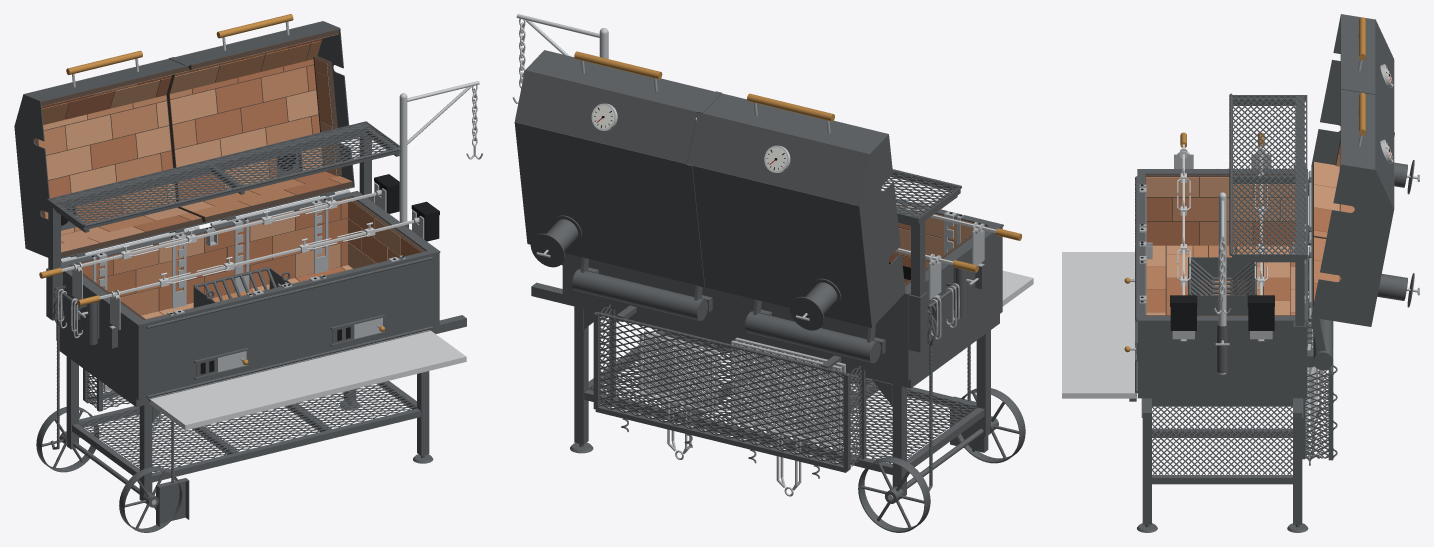
File: paulo-xl-double-rotisserie-raw.glb
3 views of the same model, side by side, from view 1: azimuth 30°, elevation 25°; view 2: azimuth 150°, elevation 25°; view 3: azimuth 270°, elevation 25° (orthographic). The views are drawn at different scales.
Visible parts, largest first — view 1: Braai box (fully brick-lined):frame, Cart frame:frame, Upper shelf (lifts off):frame, Fold-up stainless table:stainless, Oven lid, right half:brick0, Oven lid, left half:brick2, Braai box (fully brick-lined):brick1, Oven lid, left half:frame, Oven lid, right half:brick1, Oven lid, right half:brick2, Oven lid, left half:brick0, Braai box (fully brick-lined):brick0 (+24 smaller); view 2: Oven lid, left half:frame, Oven lid, right half:frame, Cart frame:frame, Grid & accessory storage cage (back):frame, Braai box (fully brick-lined):frame, Large zinc-plated grid:zinc, Small zinc-plated grid:zinc, Upper shelf (lifts off):frame, Braai box (fully brick-lined):brick2, Potjie boom pole:galv, Rebar poker (moves the firebox):frame, Ash shovel:frame (+3 smaller); view 3: Braai box (fully brick-lined):frame, Oven lid, right half:frame, Cart frame:frame, Upper shelf (lifts off):frame, Fold-up stainless table:stainless, Oven lid, left half:frame, Braai box (fully brick-lined):brick2, Braai box (fully brick-lined):brick1, Mobile firebox (sled fire basket):frame, Braai box (fully brick-lined):brick0, Grid & accessory storage cage (back):frame, Potjie boom pole:galv (+10 smaller).
Part boxes in pixels (x1,y1,x2,y2): Braai box (fully brick-lined):frame: (46, 191, 440, 400); Cart frame:frame: (36, 285, 466, 532); Upper shelf (lifts off):frame: (47, 121, 399, 269); Fold-up stainless table:stainless: (149, 330, 466, 430); Oven lid, right half:brick0: (169, 40, 351, 217); Oven lid, left half:brick2: (38, 71, 188, 252); Braai box (fully brick-lined):brick1: (77, 198, 421, 319); Oven lid, left half:frame: (14, 58, 204, 258); Oven lid, right half:brick1: (177, 38, 340, 200); Oven lid, right half:brick2: (169, 34, 338, 211); Oven lid, left half:brick0: (38, 95, 201, 243); Braai box (fully brick-lined):brick0: (113, 198, 399, 315); Oven lid, left half:frame: (687, 93, 905, 363); Oven lid, right half:frame: (514, 50, 721, 320); Cart frame:frame: (531, 282, 1025, 532); Grid & accessory storage cage (back):frame: (593, 304, 866, 478); Braai box (fully brick-lined):frame: (561, 198, 1003, 380); Large zinc-plated grid:zinc: (731, 337, 845, 496); Small zinc-plated grid:zinc: (639, 331, 718, 459); Upper shelf (lifts off):frame: (881, 169, 961, 296); Braai box (fully brick-lined):brick2: (894, 214, 973, 268); Potjie boom pole:galv: (512, 14, 608, 103); Rebar poker (moves the firebox):frame: (927, 303, 937, 490); Ash shovel:frame: (950, 345, 988, 452); Braai box (fully brick-lined):frame: (1135, 165, 1313, 398); Oven lid, right half:frame: (1309, 86, 1414, 370); Cart frame:frame: (1137, 323, 1312, 532); Upper shelf (lifts off):frame: (1229, 93, 1307, 325); Fold-up stainless table:stainless: (1062, 252, 1137, 398); Oven lid, left half:frame: (1309, 14, 1414, 241); Braai box (fully brick-lined):brick2: (1145, 177, 1295, 315); Braai box (fully brick-lined):brick1: (1146, 197, 1295, 315); Mobile firebox (sled fire basket):frame: (1188, 257, 1256, 315); Braai box (fully brick-lined):brick0: (1146, 197, 1295, 315); Grid & accessory storage cage (back):frame: (1302, 271, 1337, 460); Potjie boom pole:galv: (1214, 192, 1231, 374).
Size of the model in its own units: 2.12 by 1.81 by 1.52.
